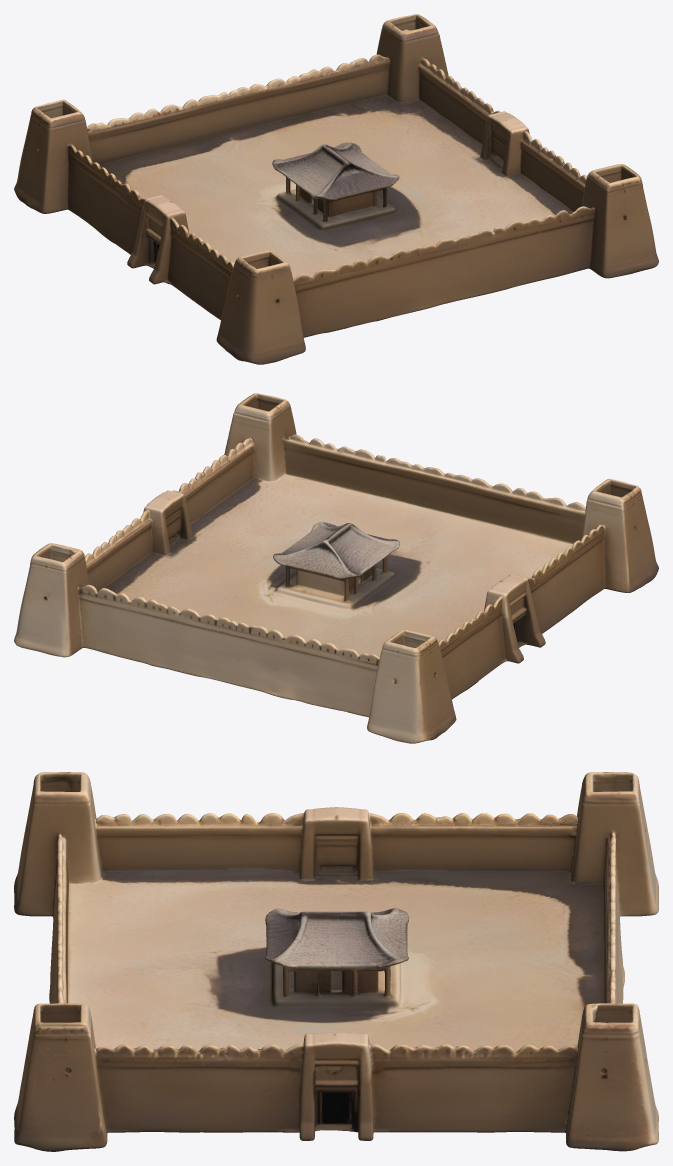
Rendered from amirsana_3d_model.glb.
The picture shows the model from 3 angles, top to bottom: view 1: azimuth 30°, elevation 25°; view 2: azimuth 150°, elevation 25°; view 3: azimuth 270°, elevation 25°; orthographic projection. The views are drawn at different scales.
Parts seen in each view (by area): view 1: tripo_node_c47a2404-362b-41a6-a5f5-b3981193a96f; view 2: tripo_node_c47a2404-362b-41a6-a5f5-b3981193a96f; view 3: tripo_node_c47a2404-362b-41a6-a5f5-b3981193a96f.
Boxes of the visible parts, <box> form: tripo_node_c47a2404-362b-41a6-a5f5-b3981193a96f: <box>14,14,658,364</box>; tripo_node_c47a2404-362b-41a6-a5f5-b3981193a96f: <box>14,393,658,743</box>; tripo_node_c47a2404-362b-41a6-a5f5-b3981193a96f: <box>14,772,658,1151</box>.
Bounding box in the file's own units: 1 × 0.204 × 0.998.
1 material, 1 textured.
